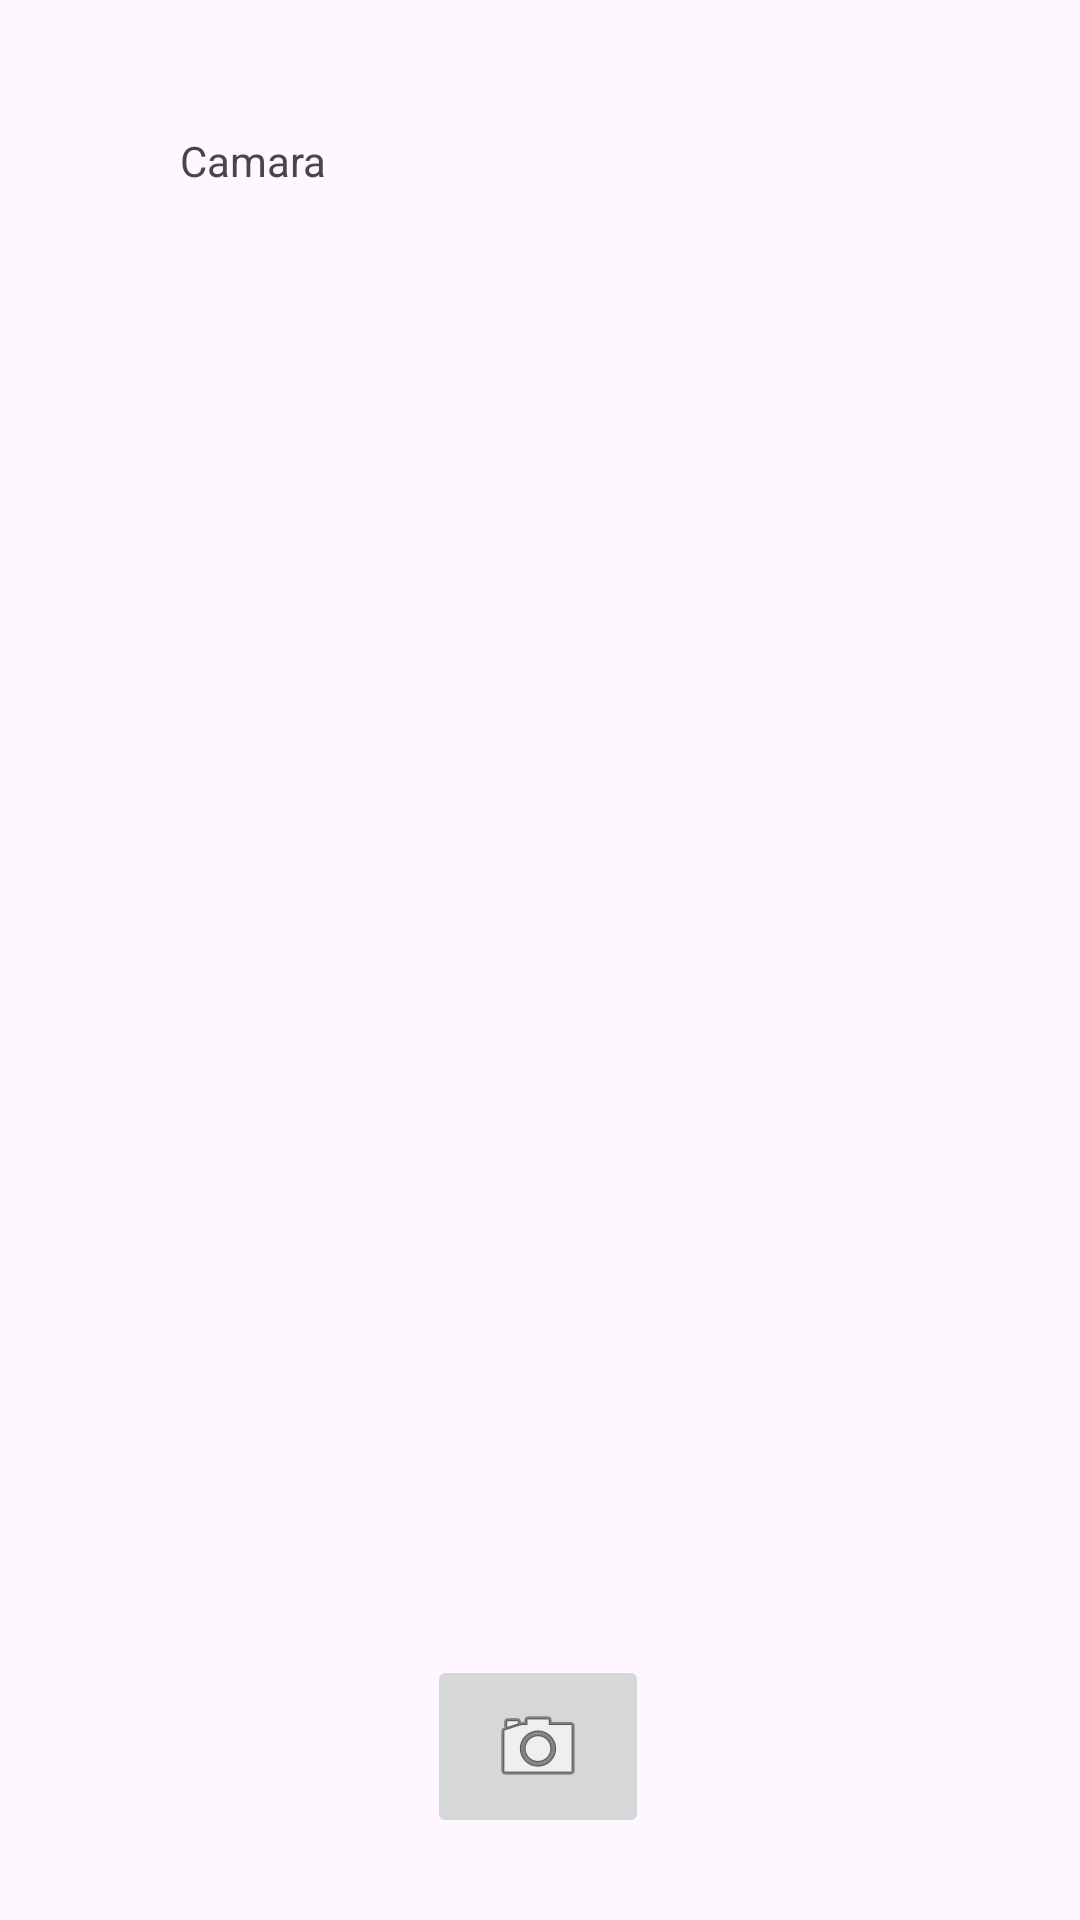

Named icons in this screenshot (1080x1920) and their bounding boxes, (x1, y1, x2, y2):
Activar Camara: (439, 1673, 637, 1820)
